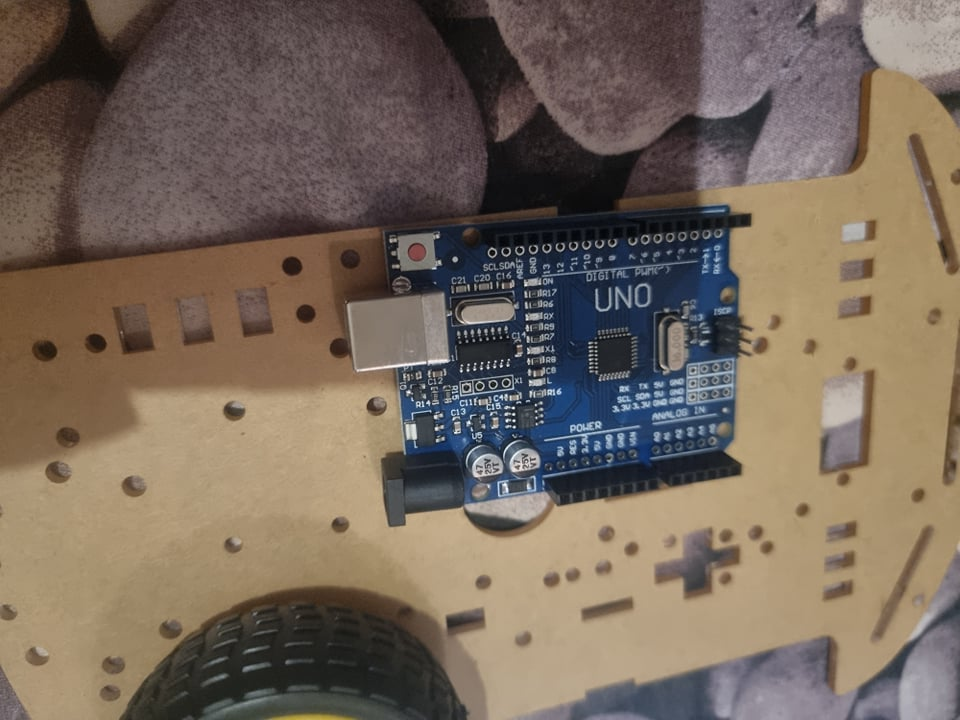UNO R3: (344, 203, 742, 529)
